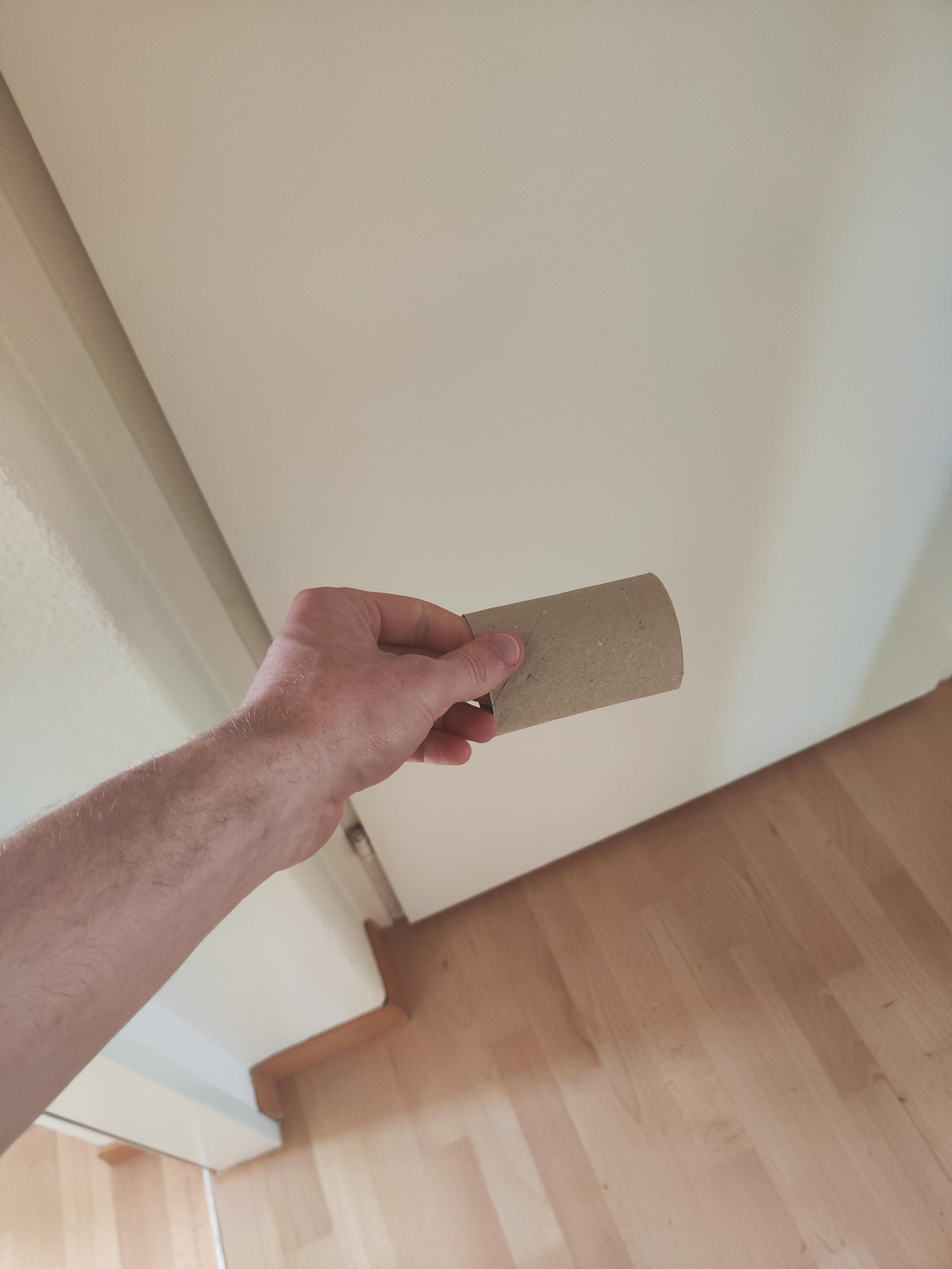Cardboard: (435, 568, 691, 743)
